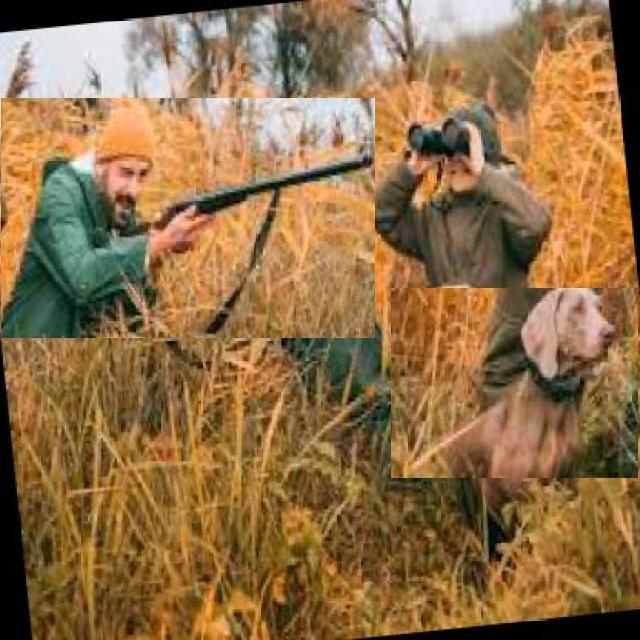p_date: (391, 288, 638, 478)
poacher: (2, 99, 376, 338), (378, 105, 550, 262)
weapon: (6, 140, 240, 263)
